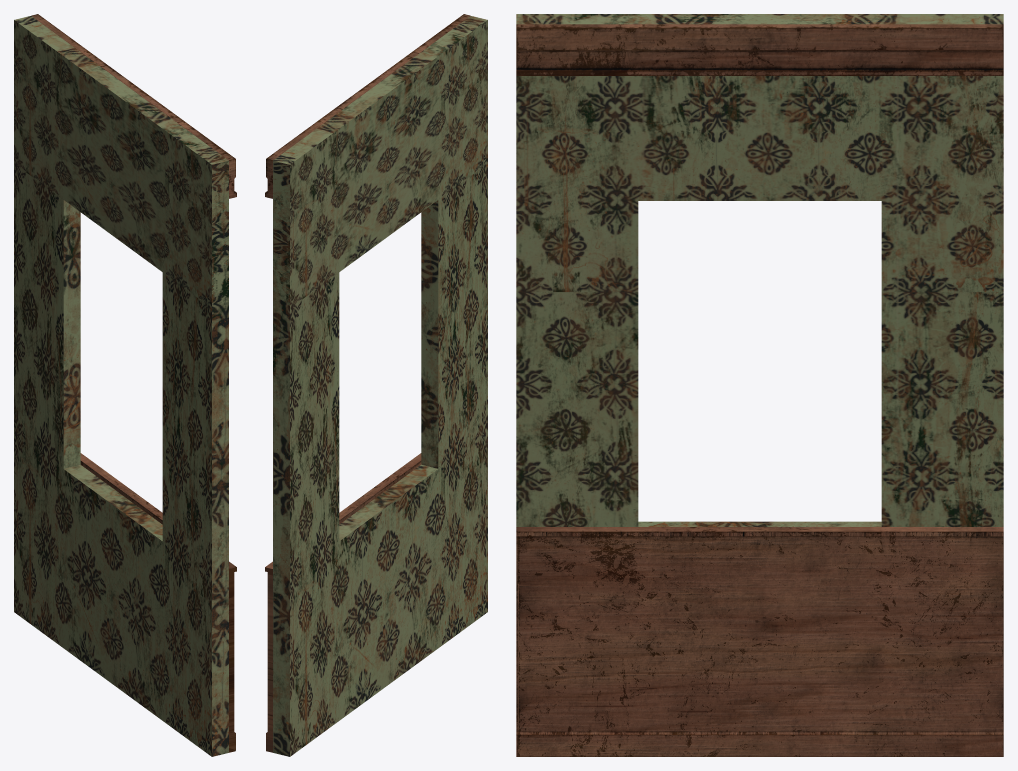
The model's file is Wall_Window_2m_A.fbx.
The picture shows the model from 3 angles, left to right: view 1: azimuth 30°, elevation 25°; view 2: azimuth 150°, elevation 25°; view 3: azimuth 270°, elevation 25°; orthographic projection. The views are drawn at different scales.
Visible parts, largest first — view 1: Wall_Window_2m_A; view 2: Wall_Window_2m_A; view 3: Wall_Window_2m_A.
Boxes of the visible parts, x1,y1,x2,y2 form: Wall_Window_2m_A: [14, 14, 236, 756]; Wall_Window_2m_A: [265, 14, 487, 756]; Wall_Window_2m_A: [516, 14, 1003, 756].
Size of the model in its own units: 0.1458 by 2 by 3.3.
2 materials, 2 textured.
